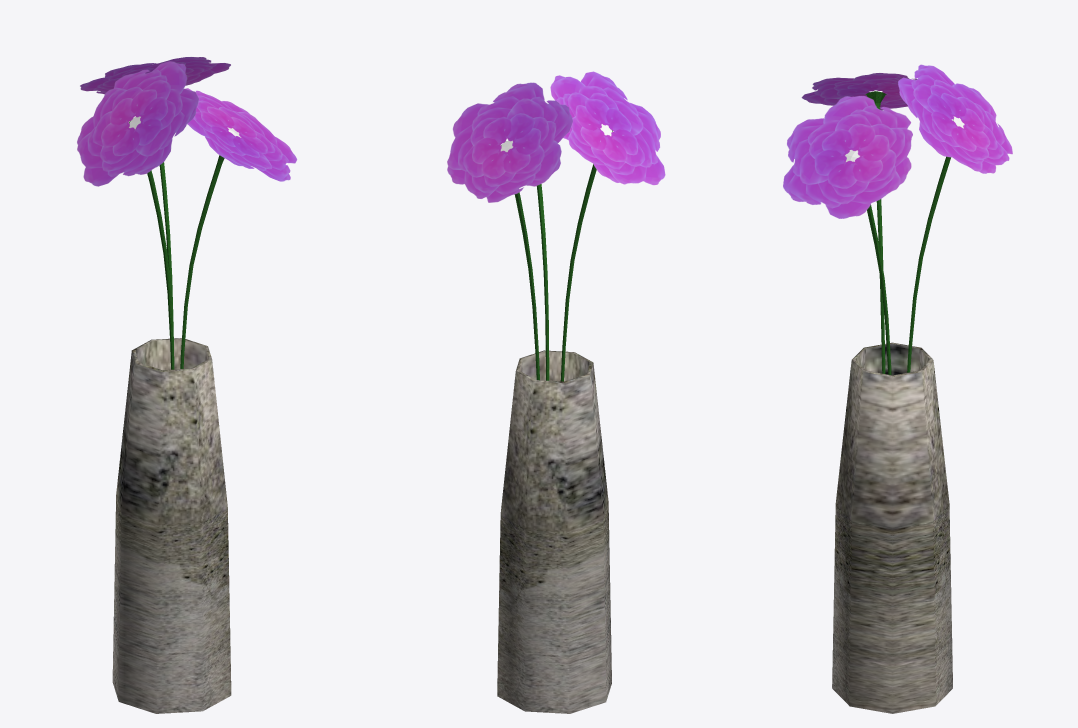
Rendered from flower1.glb.
3 renders of one model, left to right at view 1: azimuth 30°, elevation 25°; view 2: azimuth 150°, elevation 25°; view 3: azimuth 270°, elevation 25°, orthographic. The views are drawn at different scales.
Visible parts, largest first — view 1: flower1; view 2: flower1; view 3: flower1.
Part boxes in pixels (bbox=[...]): flower1: bbox=[77, 57, 297, 713]; flower1: bbox=[447, 71, 665, 713]; flower1: bbox=[783, 64, 1012, 713].
Size of what is drawn, in the model's own units: 0.2442 by 0.5936 by 0.264.
Materials: 3 (3 with a texture image).
